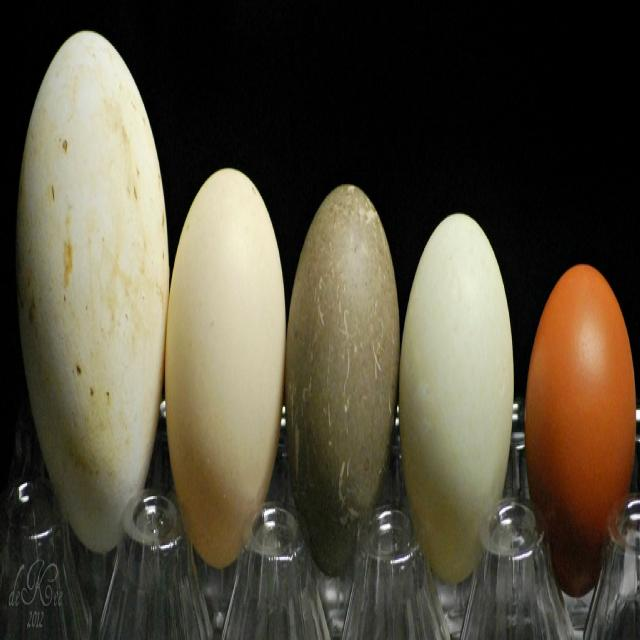Egg: (18, 27, 168, 559), (166, 165, 286, 570), (284, 179, 398, 583), (400, 210, 512, 590), (523, 263, 638, 600)
